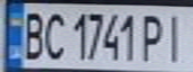1: (118, 10, 142, 62), (66, 8, 87, 61)
4: (103, 10, 124, 62)
7: (84, 9, 106, 61)
B: (18, 7, 48, 61)
C: (42, 8, 69, 61)
I: (160, 9, 193, 64)
P: (139, 10, 169, 63)
